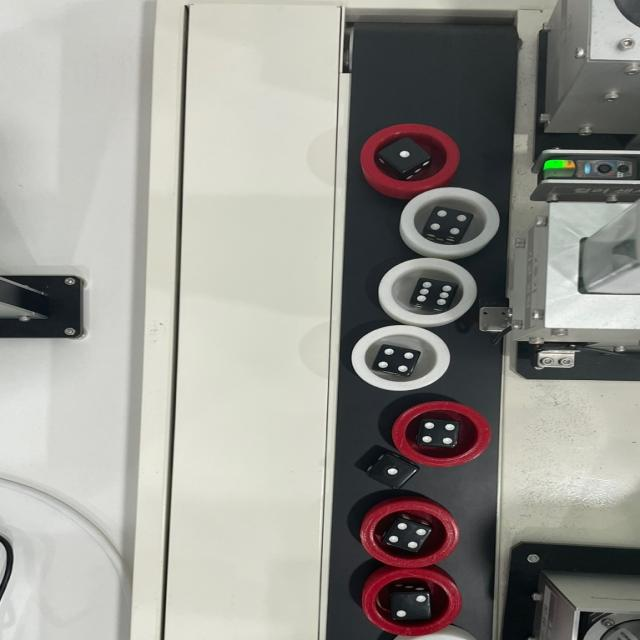DICE1: (374, 457, 421, 486), (388, 142, 429, 170)
DICE2: (396, 593, 436, 619)
DICE4: (378, 344, 418, 374), (431, 207, 472, 235), (422, 418, 463, 445), (390, 522, 431, 548)
DICE6: (415, 276, 459, 308)
RedChip: (362, 122, 460, 190), (368, 570, 466, 635), (361, 502, 456, 569), (390, 401, 489, 465)
WhiteChip: (398, 186, 499, 256), (379, 256, 479, 324), (352, 326, 452, 394)
